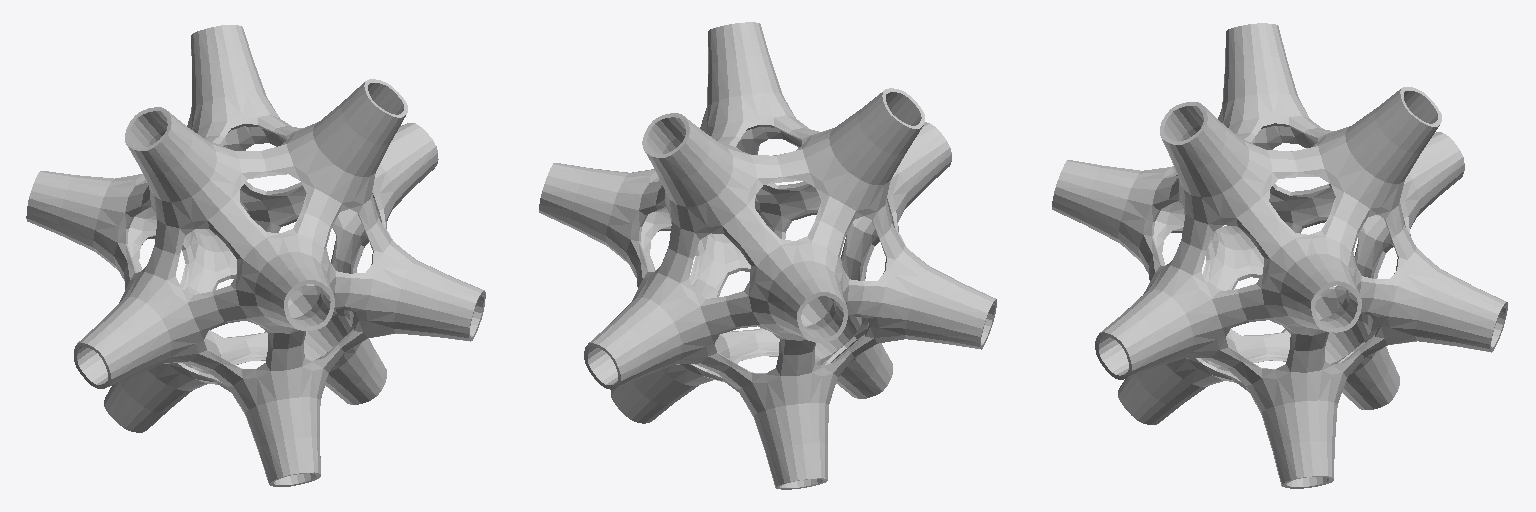
Rendered from WEIRDRIG.obj.
3 views of the same model, side by side, from view 1: azimuth 30°, elevation 25°; view 2: azimuth 150°, elevation 25°; view 3: azimuth 270°, elevation 25° (orthographic).
Parts seen in each view (by area): view 1: _Roll_Structure; view 2: _Roll_Structure; view 3: _Roll_Structure.
Part boxes in pixels (x1,y1,x2,y2): _Roll_Structure: (26,25,485,486); _Roll_Structure: (539,22,996,489); _Roll_Structure: (1052,23,1507,488).
Size of the model in its own units: 2.94 by 2.63 by 2.91.